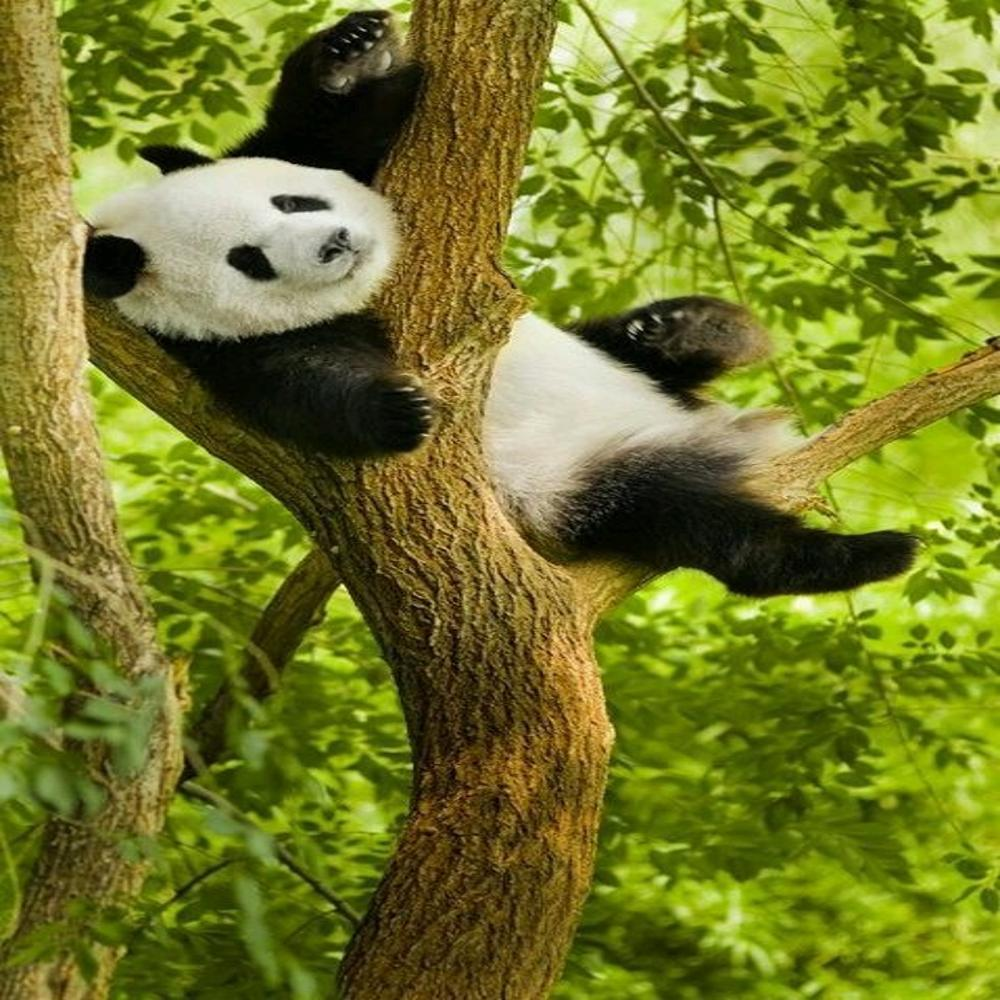panda: (66, 8, 924, 602)
